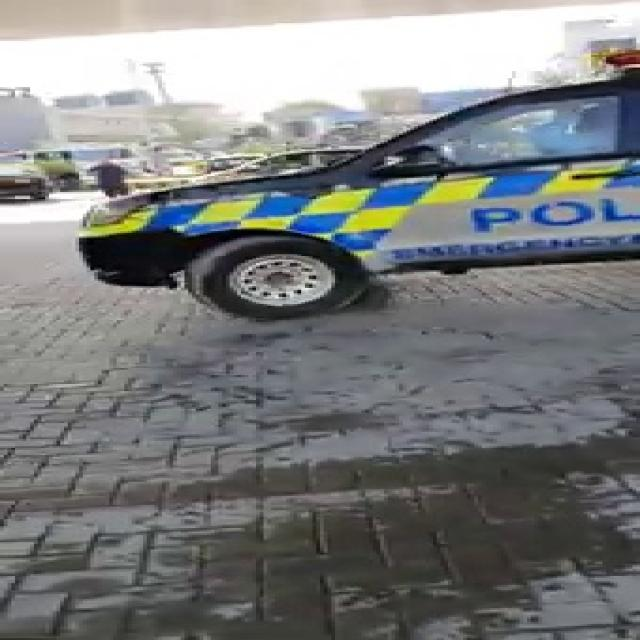police: (43, 14, 640, 302)
